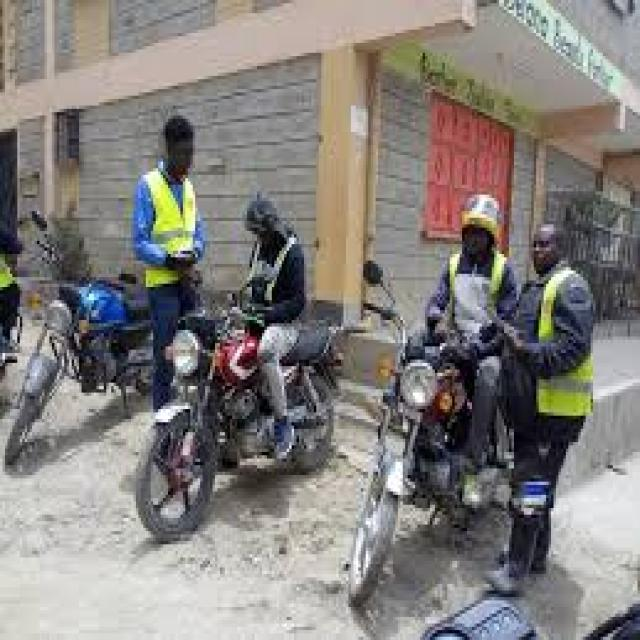bodaboda: (332, 224, 559, 627), (129, 250, 360, 542), (0, 155, 164, 479)
